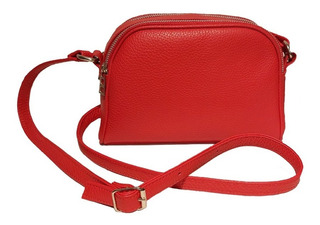cartera: (92, 10, 297, 145)
